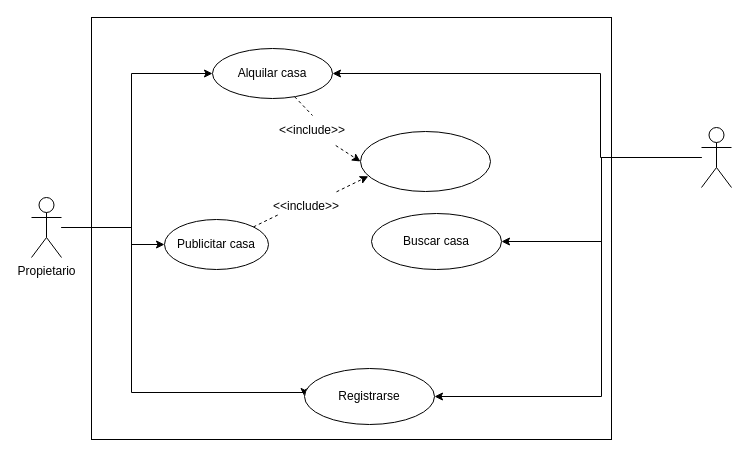
The diagram is 756 pixels wide and 465 high, and some of its shapes have lost their labels. The centre of each missing label's shape, as x and y in pixels:
"Identificarse" belongs at (425,161).
"Inquilino" belongs at (716,157).
